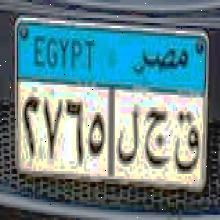2: (21, 91, 41, 160)
5: (87, 111, 106, 162)
6: (64, 96, 84, 166)
7: (42, 97, 63, 161)
jeem: (143, 105, 170, 172)
laam: (116, 103, 140, 171)
qaaf: (173, 104, 199, 176)
